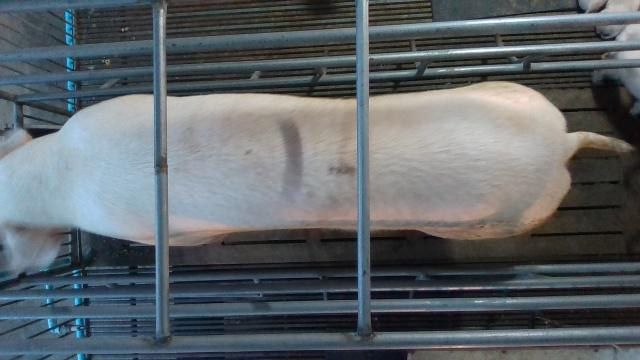sow-stand-feed: (3, 80, 634, 276)
